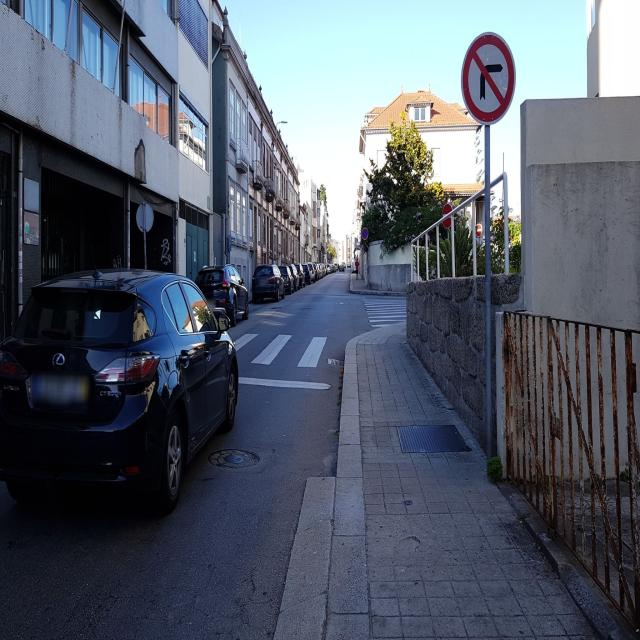forb_stopping: (361, 227, 368, 241)
